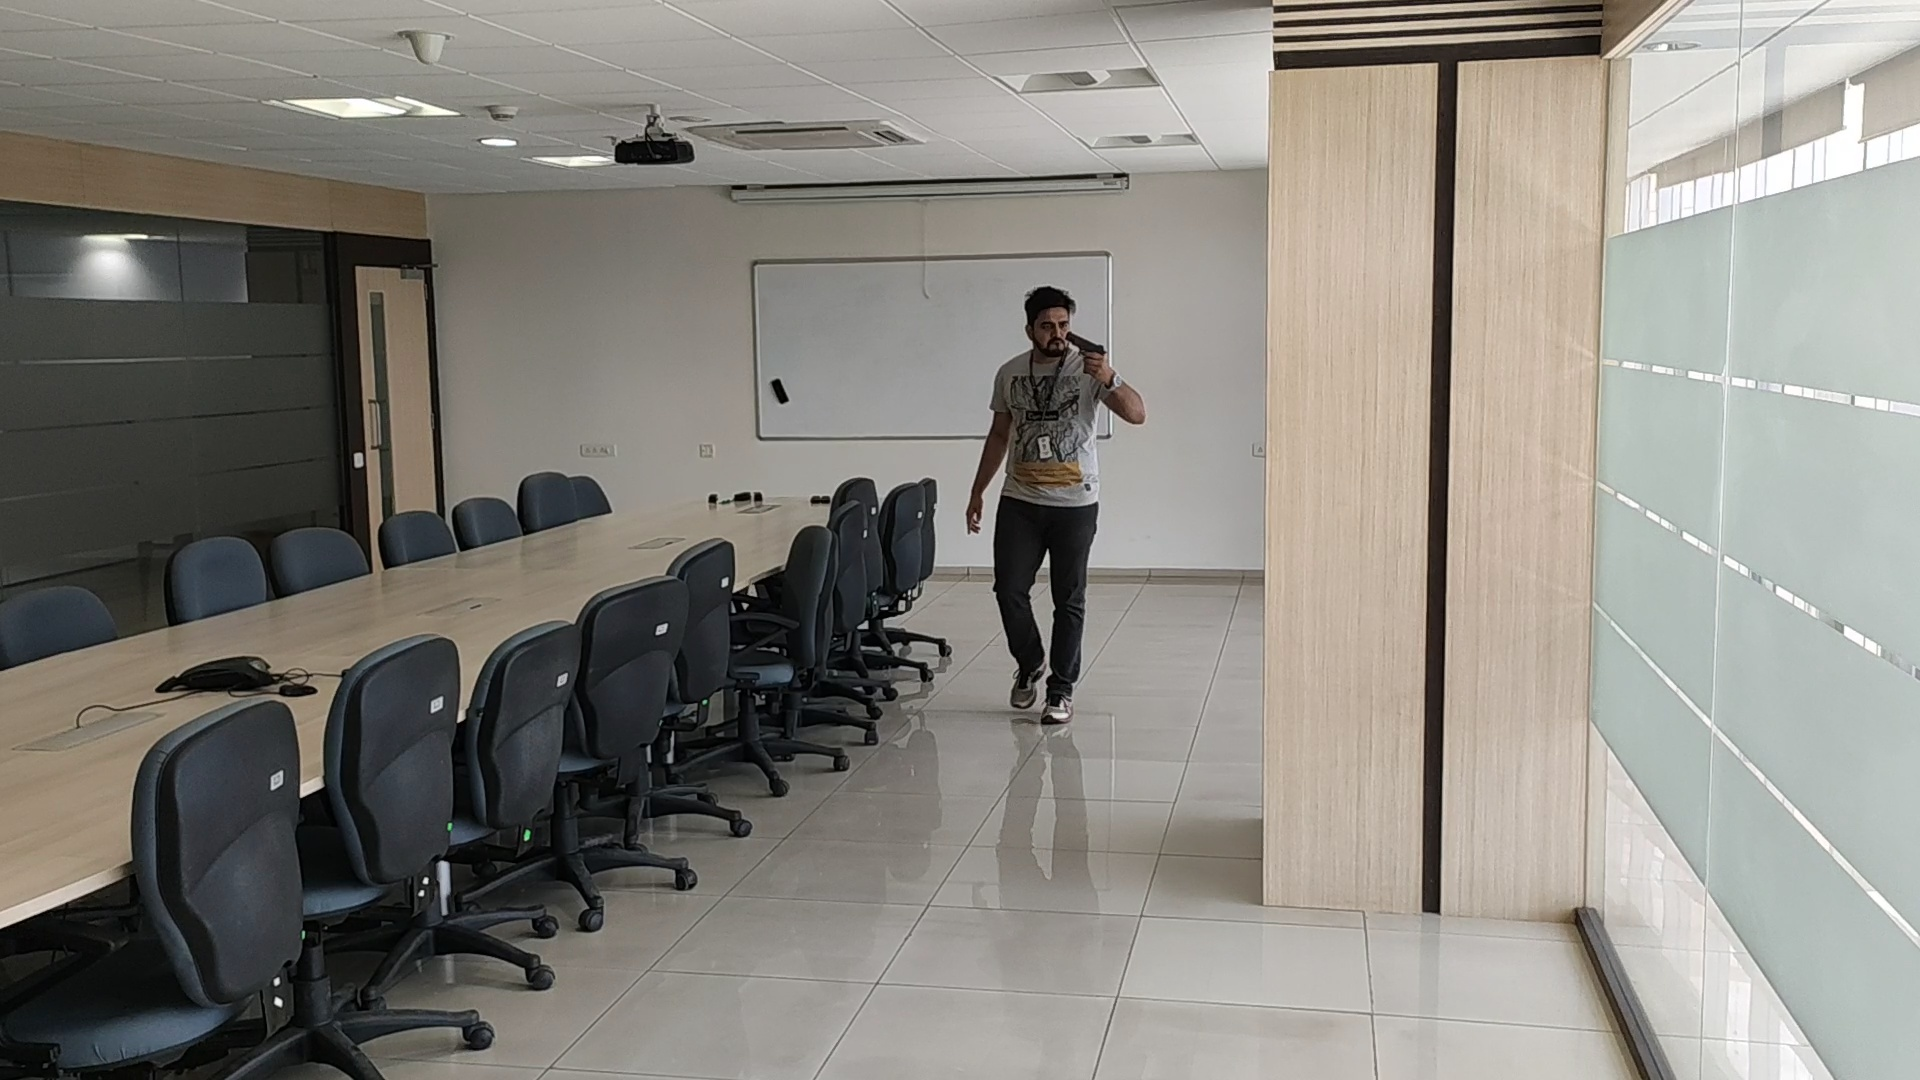gun: (1065, 331, 1106, 353)
